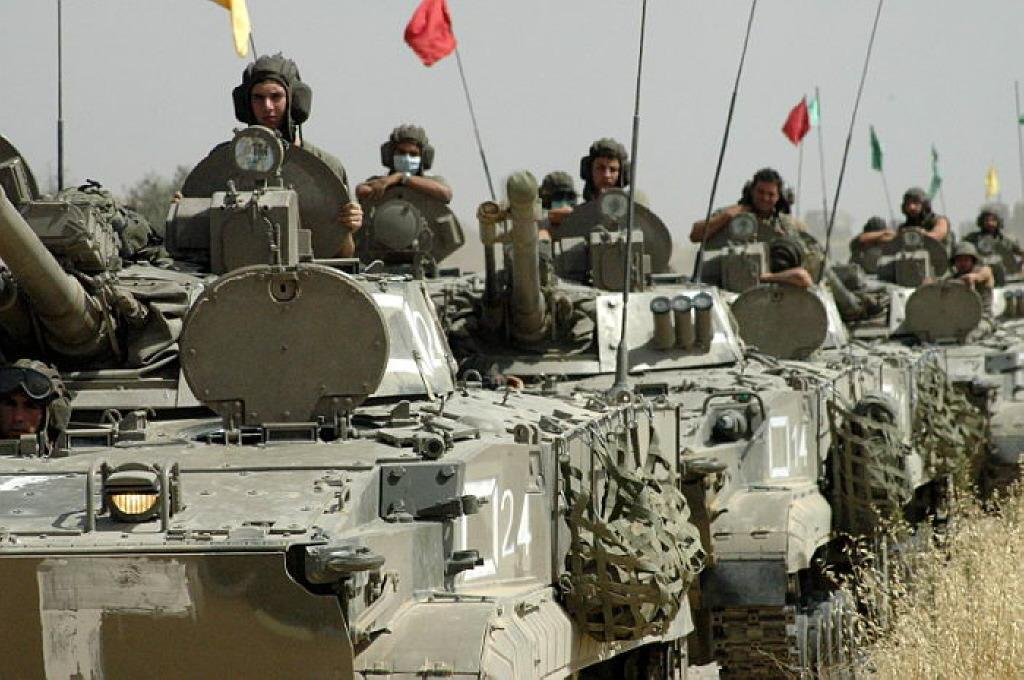MIL_IFV: (8, 51, 704, 679)
